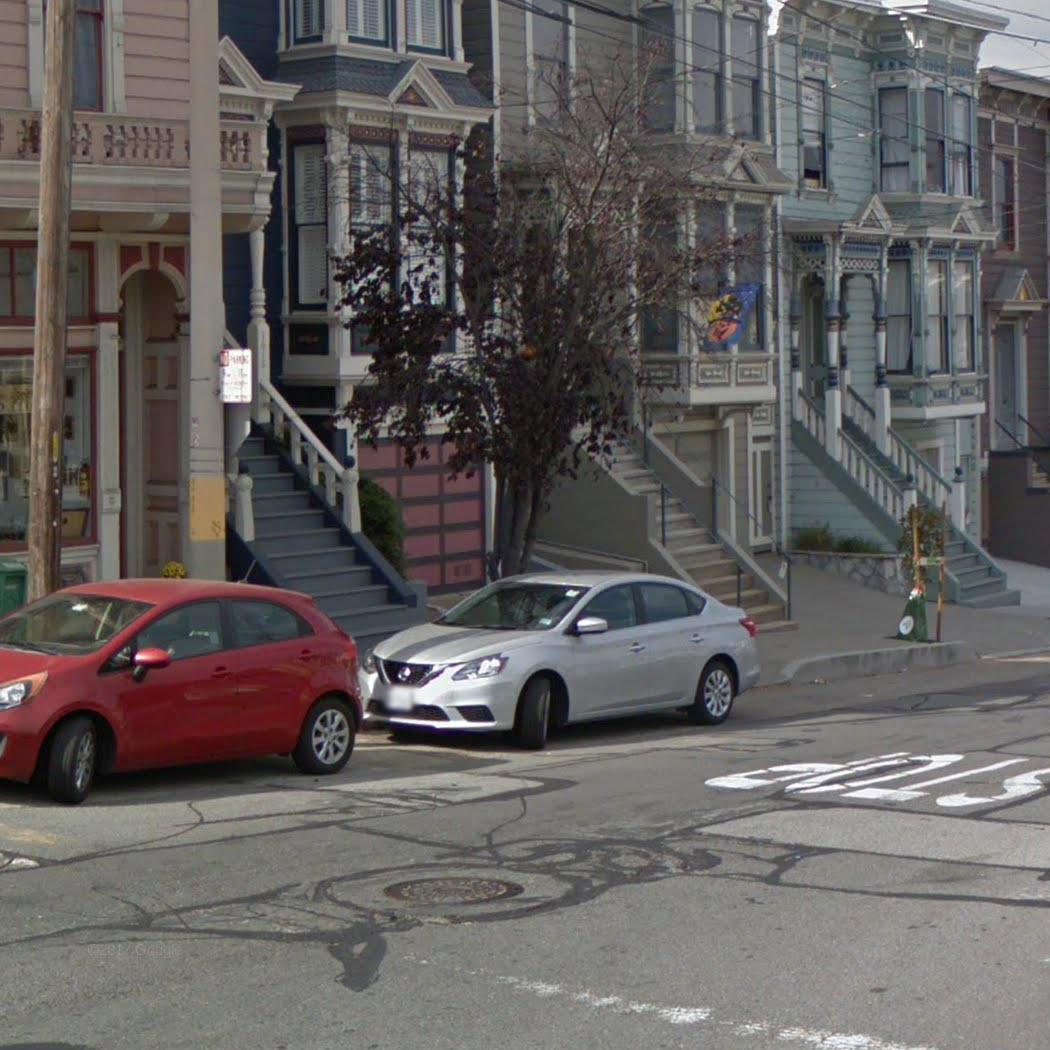No Parking: (215, 345, 254, 405)
